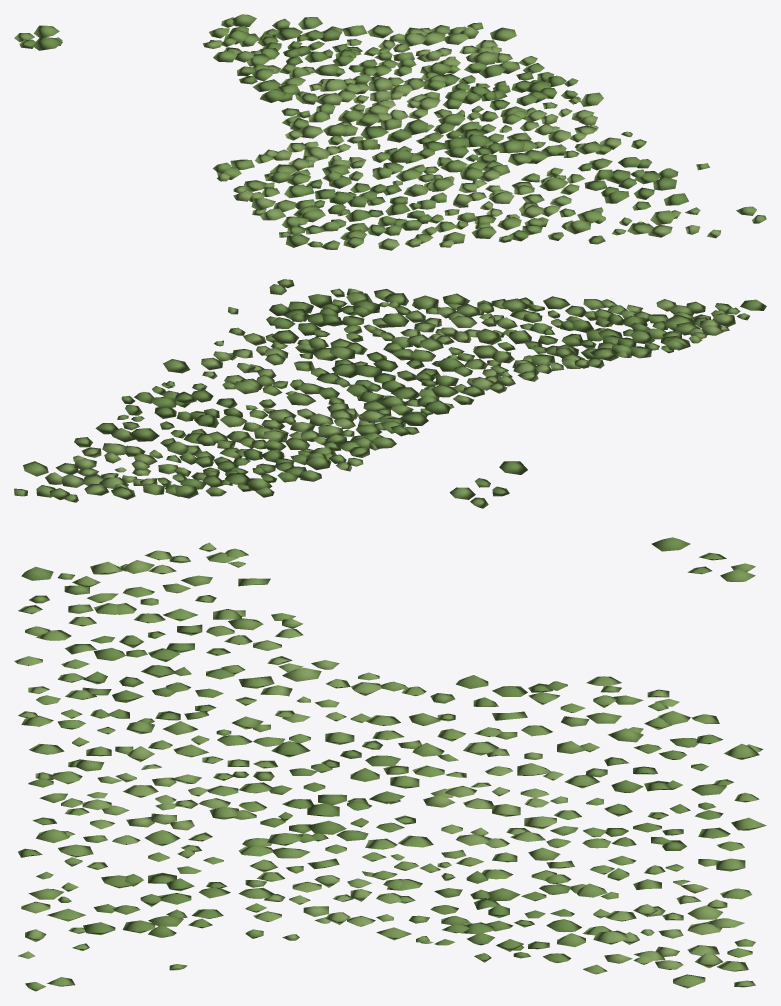
Rendered from canopy-1--1-3.glb.
3 renders of one model, top to bottom at view 1: azimuth 30°, elevation 25°; view 2: azimuth 150°, elevation 25°; view 3: azimuth 270°, elevation 25°, orthographic. The views are drawn at different scales.
Bounding box in the file's own units: 505 × 122 × 520.
Materials: 1 (1 with a texture image).
